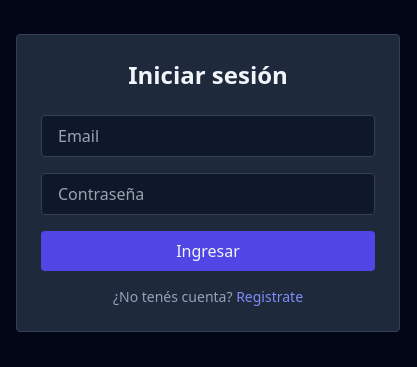
Scenario: LoginPage › muestra el mensaje de error si el login falla
Type "test@test.com" into the field with placeholder "Email" at (208, 136), box [41,115,375,157]
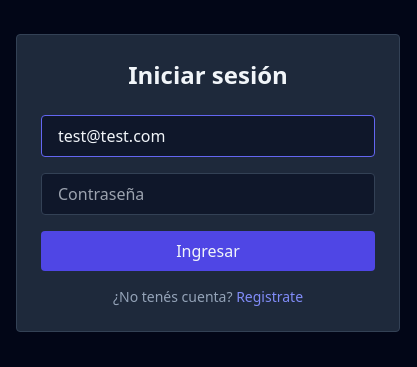
Type "mal" into the password field with placeholder "Contraseña" at (208, 194), box [41,173,375,215]
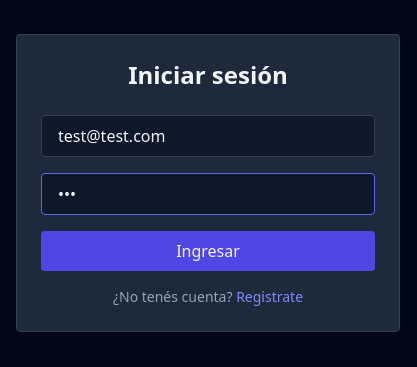
Click the button "Ingresar" at (208, 251), box [41,231,375,271]
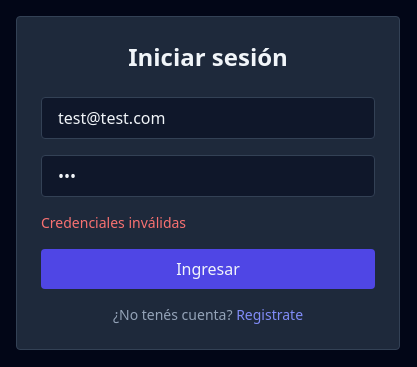
Expected: the text "Credenciales inválidas" is shown, [41,213,186,232]
